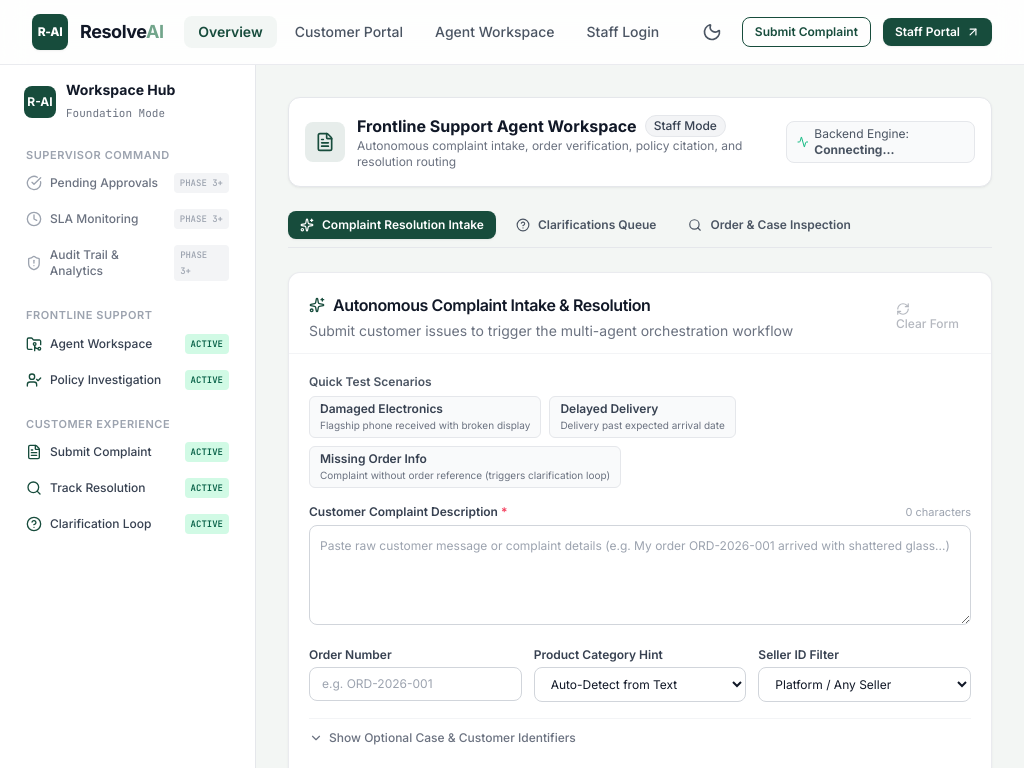
Scenario: Support Agent Workspace › AgentWorkspacePage End-to-End Workflow Integration › executes resolve workflow and displays full results panel
This screenshot has width=1024, height=768.
Note: Enter complaint text
Replace the text in the text box labelled "Customer Complaint Description *" with "My flagship smartphone arrived with shattered display." at (640, 574), box x1=309 y1=524 x2=971 y2=624
(page scrolled)
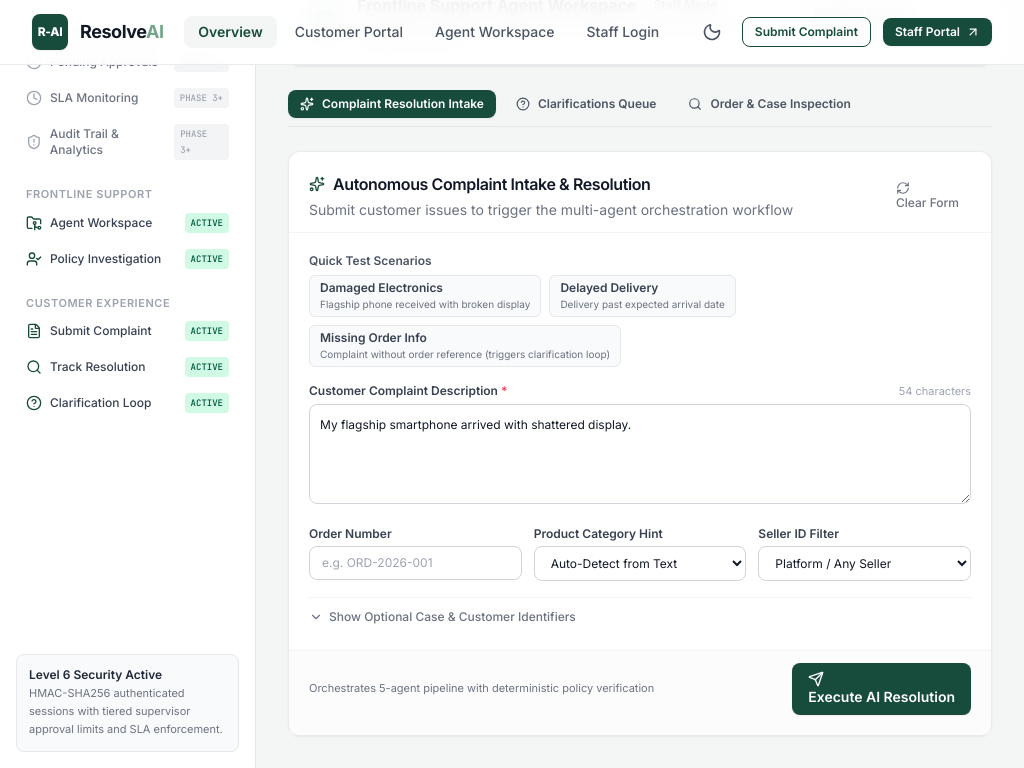
Note: Submit workflow
Click the button "Execute AI Resolution".
click(882, 688)  # box x1=792 y1=662 x2=971 y2=714
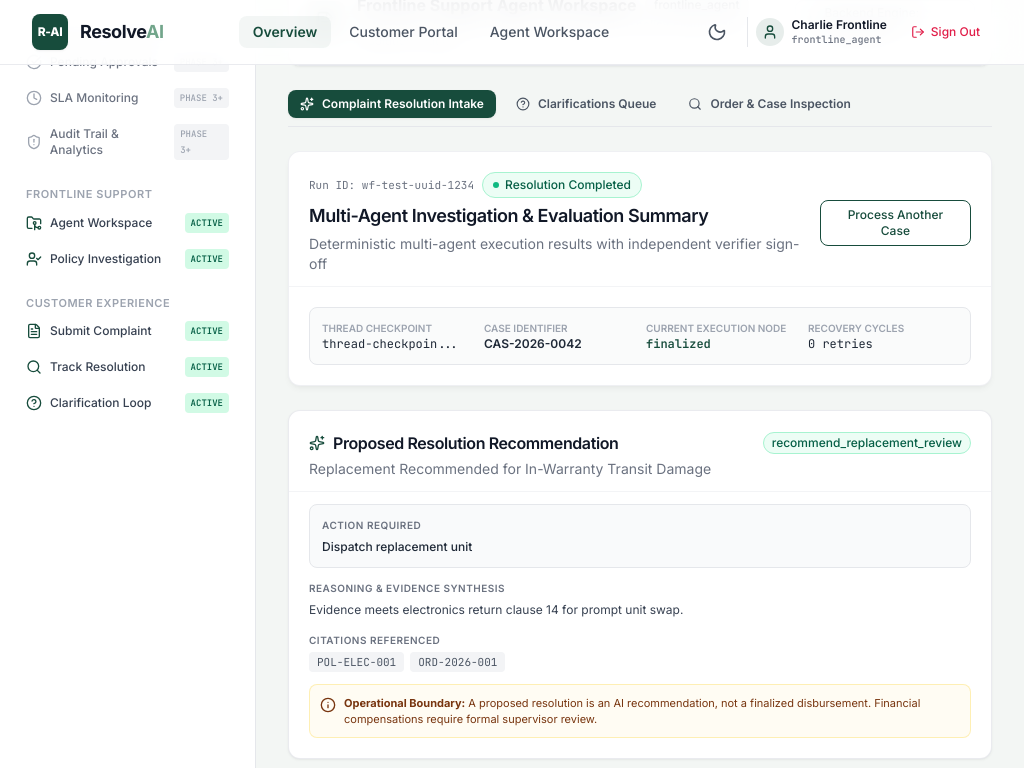
Result: the text "CAS-2026-0042" is shown at x1=484 y1=336 x2=582 y2=351
Result: the text "Resolution Completed" is shown at x1=505 y1=177 x2=631 y2=193
